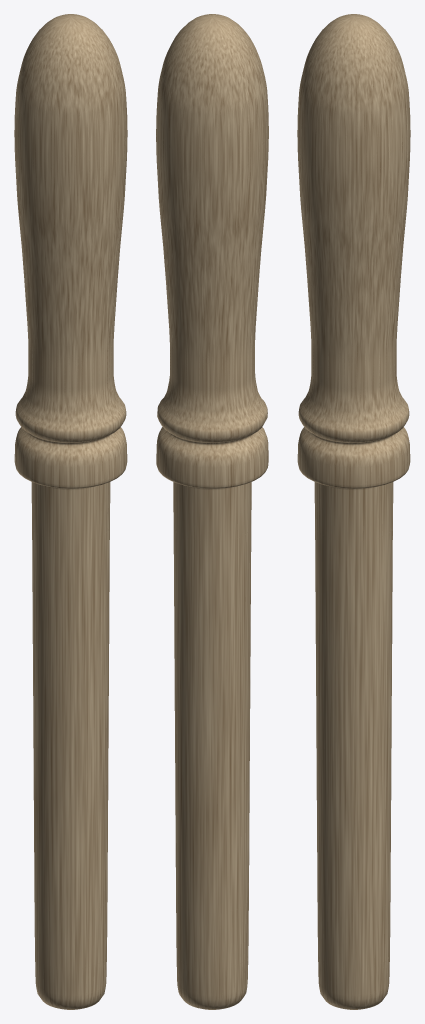
3 views of the same model, side by side, from view 1: azimuth 90°, elevation 25°; view 2: azimuth 150°, elevation 25°; view 3: azimuth 270°, elevation 25° (orthographic).
Visible parts, largest first — view 1: NEW675_LOD1; view 2: NEW675_LOD1; view 3: NEW675_LOD1.
Boxes of the visible parts, x1,y1,x2,y2 form: NEW675_LOD1: (14, 14, 127, 1009); NEW675_LOD1: (156, 14, 268, 1009); NEW675_LOD1: (297, 14, 410, 1009).
Size of the model in its own units: 0.0265 by 0.255 by 0.0265.
Materials: 1 (1 with a texture image).
